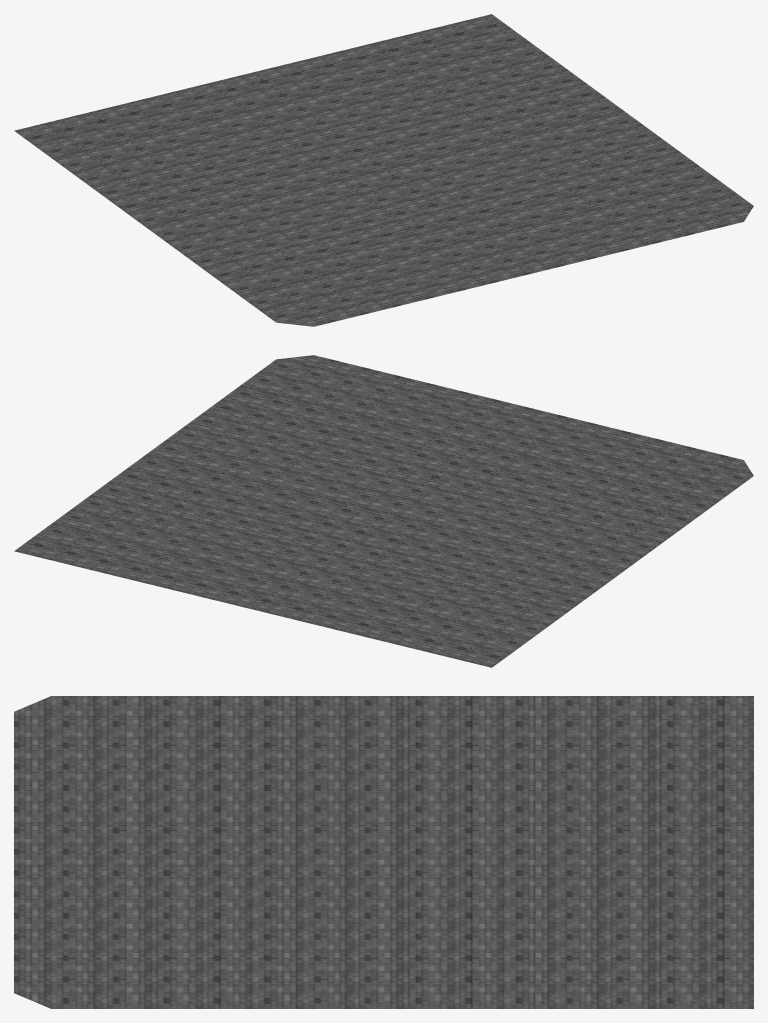
The model's file is BgMD_RoadSideMONI_01_01.fbx.
3 renders of one model, top to bottom at view 1: azimuth 30°, elevation 25°; view 2: azimuth 150°, elevation 25°; view 3: azimuth 270°, elevation 25°, orthographic. The views are drawn at different scales.
Parts seen in each view (by area): view 1: pPlane1; view 2: pPlane1; view 3: pPlane1.
Boxes of the visible parts, left/top/right/bottom form: pPlane1: left=14, top=14, right=753, bottom=326; pPlane1: left=14, top=355, right=753, bottom=667; pPlane1: left=14, top=696, right=753, bottom=1008.
Size of the model in its own units: 8000 by 0 by 8000.
